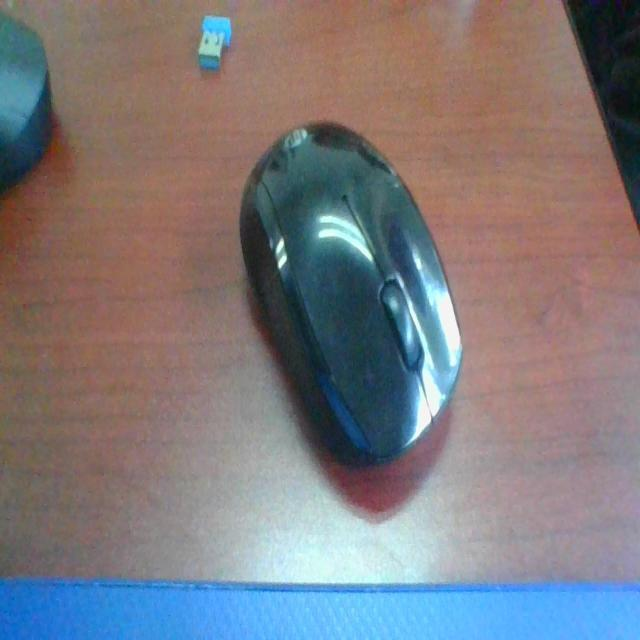mouse: (243, 111, 467, 462)
